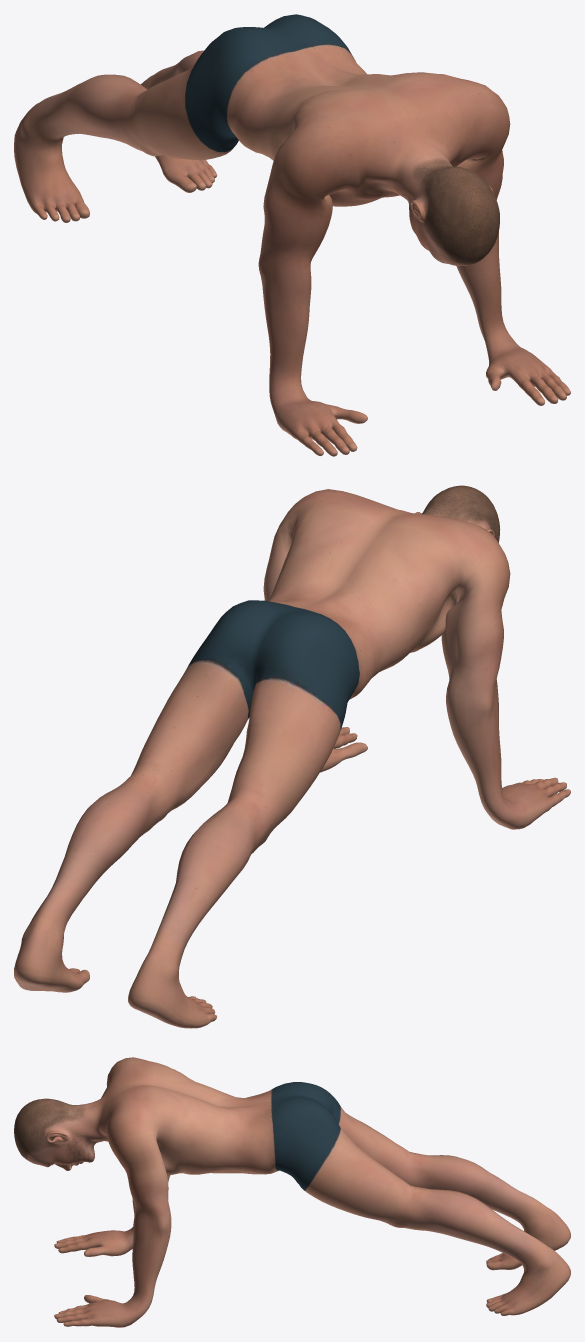
File: neutral_plank.glb
3 views of the same model, one above another, from view 1: azimuth 30°, elevation 25°; view 2: azimuth 150°, elevation 25°; view 3: azimuth 270°, elevation 25° (orthographic). The views are drawn at different scales.
Parts seen in each view (by area): view 1: Body; view 2: Body; view 3: Body.
Boxes of the visible parts, left/top/right/bottom form: Body: left=14, top=14, right=570, bottom=456; Body: left=14, top=485, right=570, bottom=1028; Body: left=14, top=1057, right=570, bottom=1327.
Bounding box in the file's own units: 0.6292 × 0.6965 × 1.7.
Materials: 2 (2 with a texture image).
